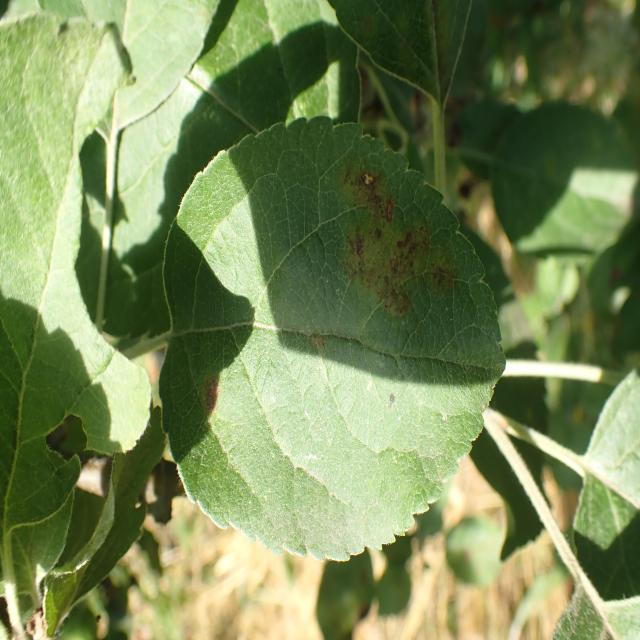scab: (193, 146, 485, 509)
